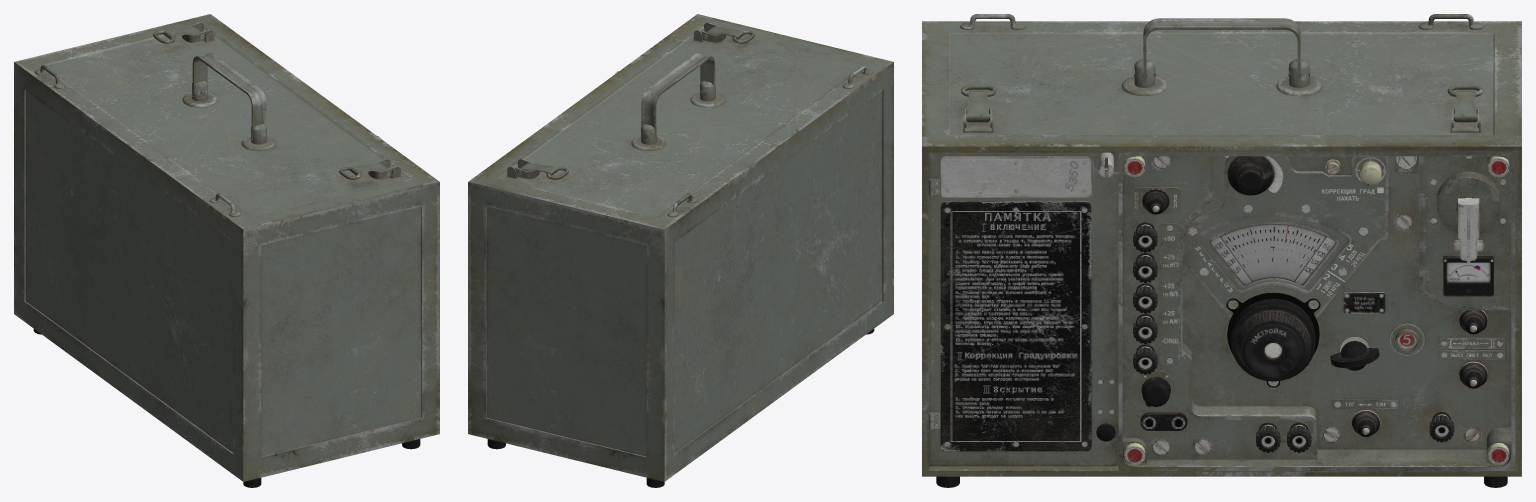
The model's file is radio_2012.fbx.
The picture shows the model from 3 angles, left to right: view 1: azimuth 30°, elevation 25°; view 2: azimuth 150°, elevation 25°; view 3: azimuth 270°, elevation 25°; orthographic projection. The views are drawn at different scales.
Visible parts, largest first — view 1: radio; view 2: radio; view 3: radio.
Boxes of the visible parts, x1=… form: radio: x1=14, y1=14, x2=439, y2=487; radio: x1=468, y1=14, x2=893, y2=487; radio: x1=922, y1=14, x2=1521, y2=487.
Size of the model in its own units: 23.57 by 33.65 by 44.5.
1 material, 1 textured.
